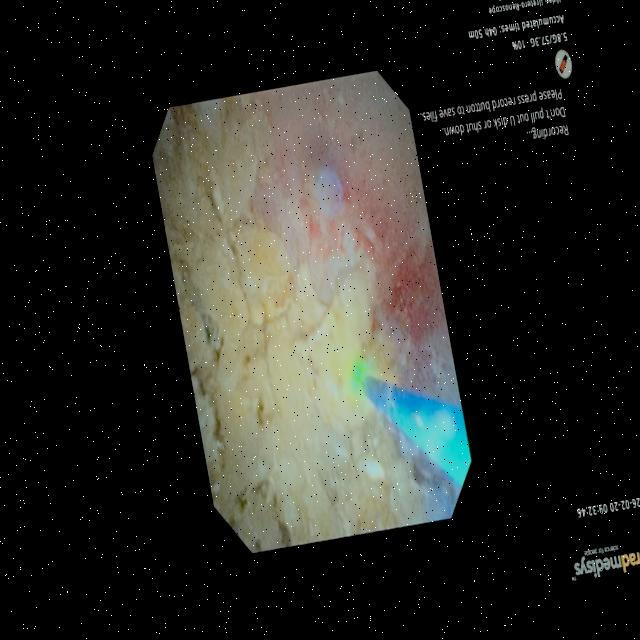stone-new: (154, 102, 422, 551)
